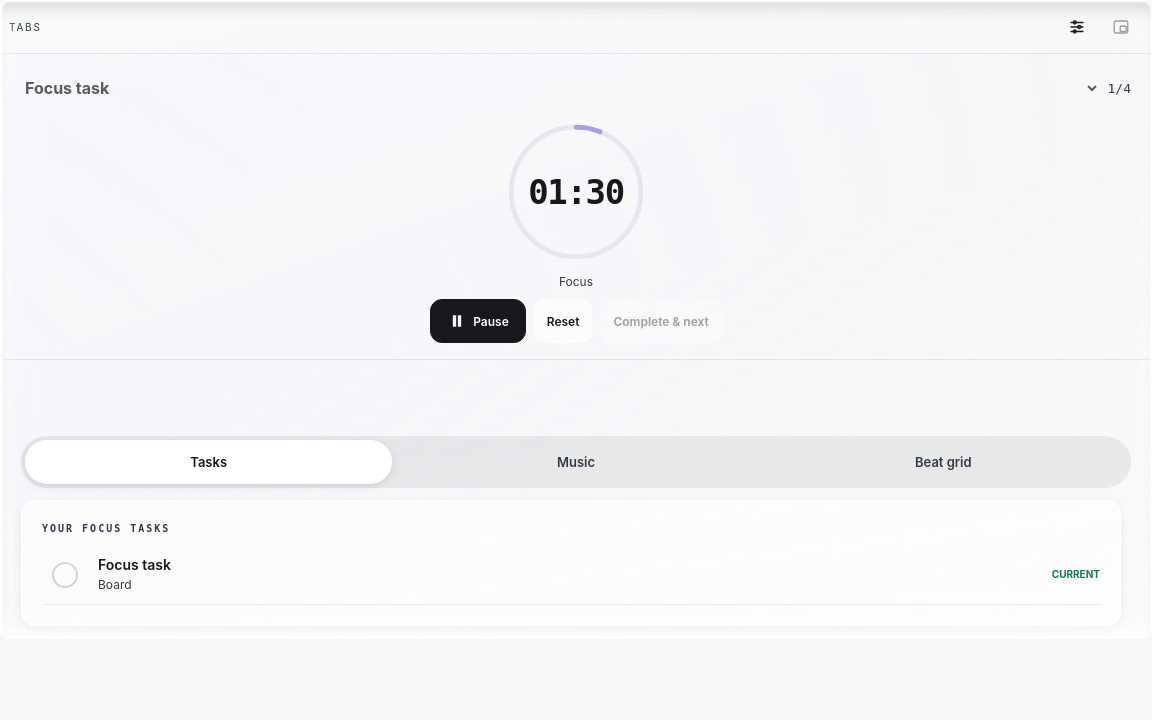
Test: offers a guided install without asking for an extension ID
Click the tab "Music" at coordinates (576, 462), box [392,440,760,484]
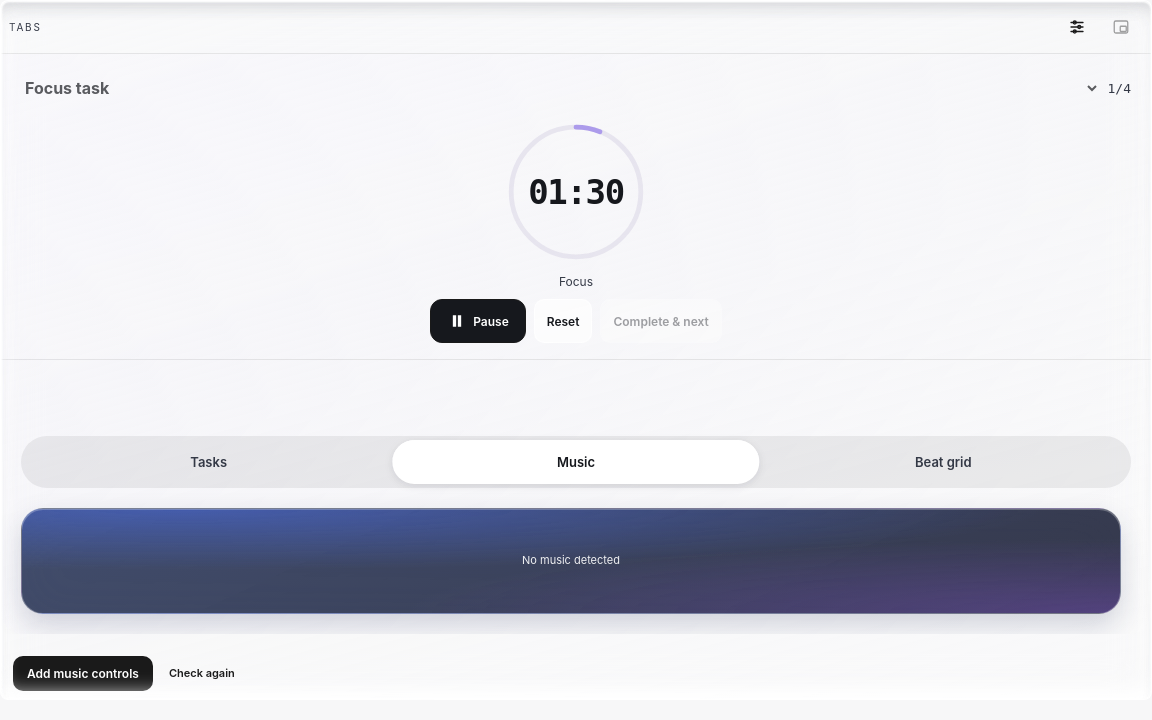
Check: the link "Add music controls" is shown, box [13,656,153,691]
